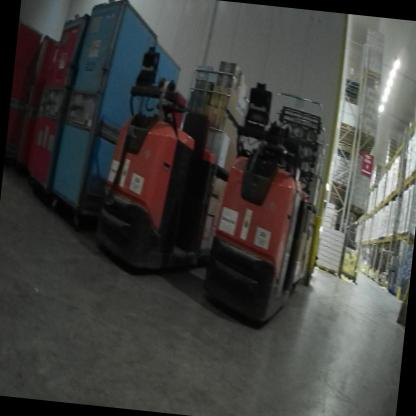pallet_truck: (68, 34, 272, 290), (187, 84, 348, 333)
